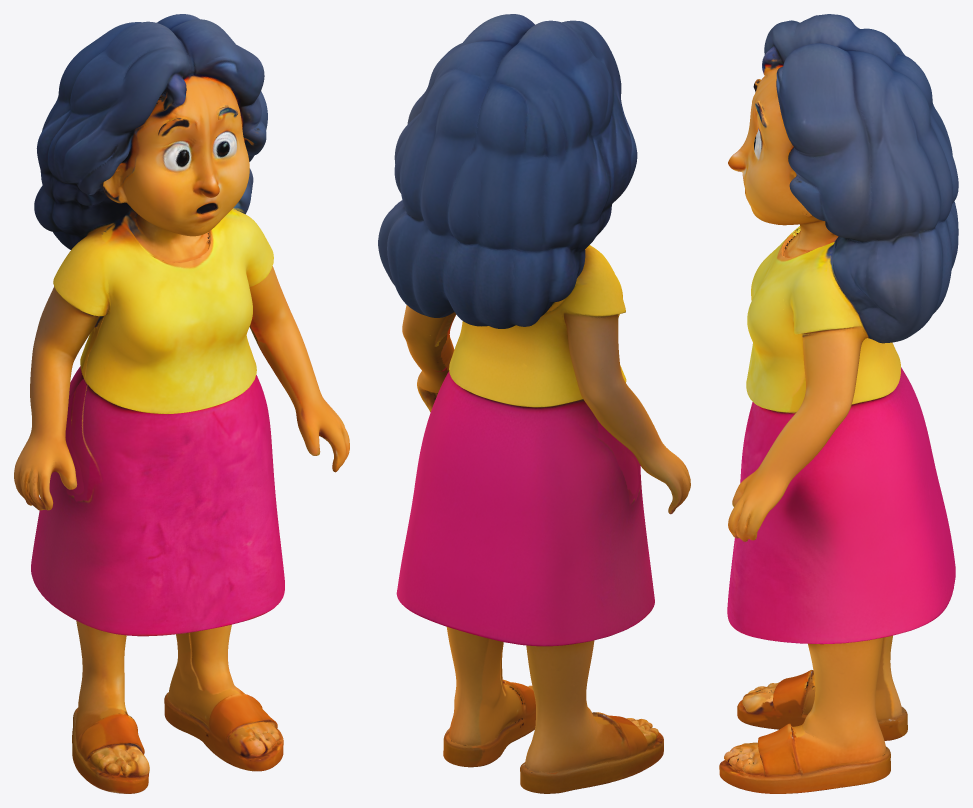
The model's file is SeñoraDeLaIsla.glb.
The picture shows the model from 3 angles, left to right: view 1: azimuth 30°, elevation 25°; view 2: azimuth 150°, elevation 25°; view 3: azimuth 270°, elevation 25°; orthographic projection.
Visible parts, largest first — view 1: model; view 2: model; view 3: model.
Boxes of the visible parts, x1,y1,x2,y2 form: model: (14, 14, 349, 793); model: (378, 14, 690, 793); model: (719, 14, 958, 793).
Size of the model in its own units: 0.8108 by 1.9 by 0.5655.
1 material, 1 textured.
